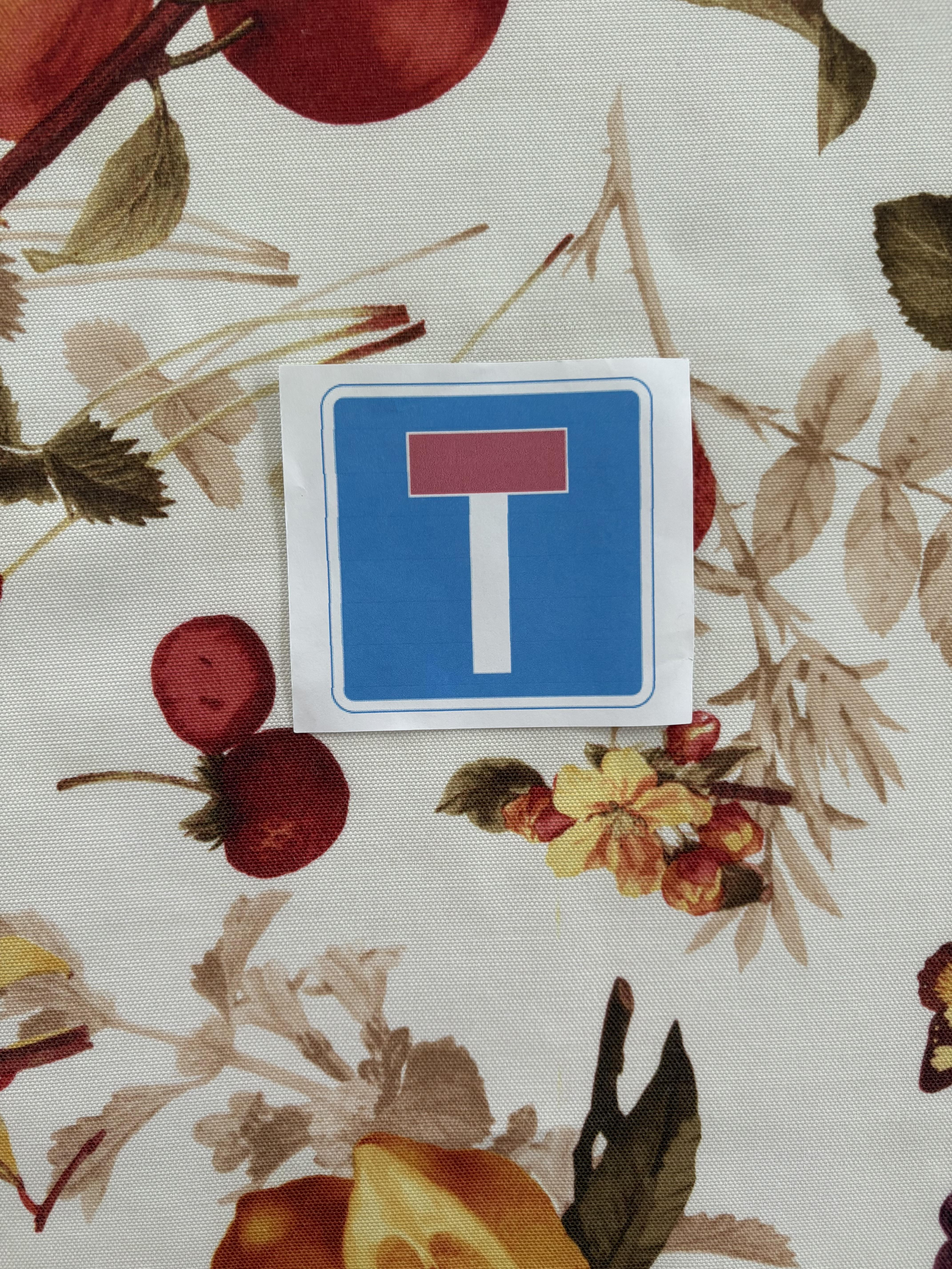Dead End: (282, 364, 691, 717)
